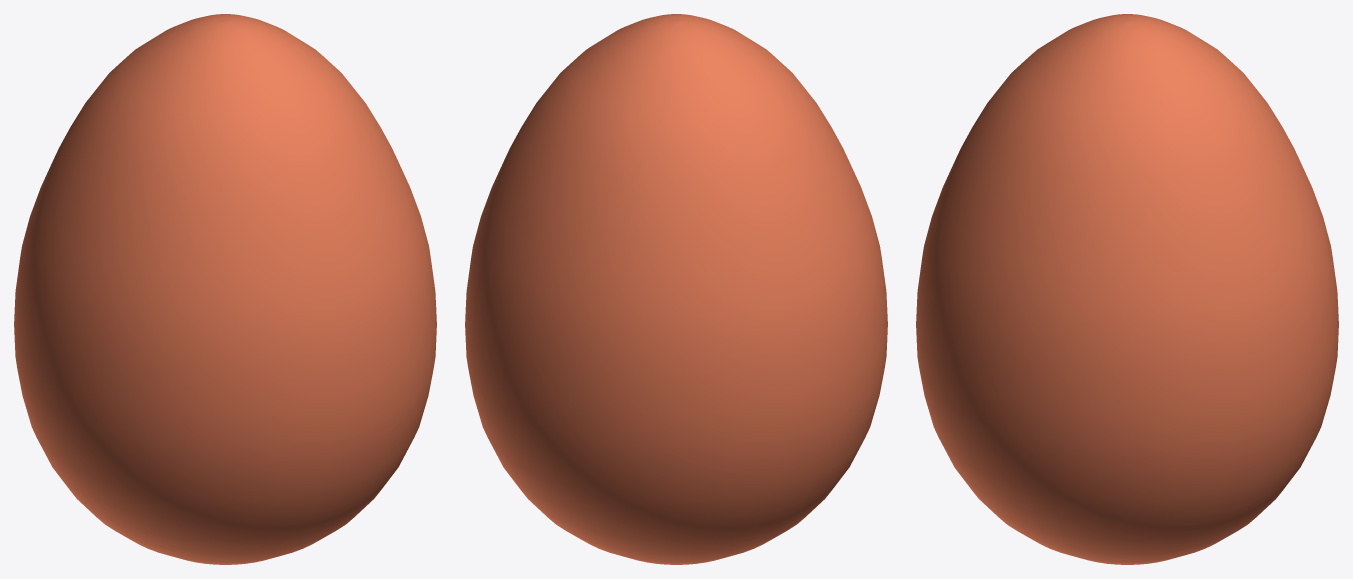
Rendered from EggBronze.fbx.
The picture shows the model from 3 angles, left to right: view 1: azimuth 30°, elevation 25°; view 2: azimuth 150°, elevation 25°; view 3: azimuth 270°, elevation 25°; orthographic projection.
Parts seen in each view (by area): view 1: EggBronze.003; view 2: EggBronze.003; view 3: EggBronze.003.
Boxes of the visible parts, bbox=[...] form: EggBronze.003: bbox=[14, 14, 436, 564]; EggBronze.003: bbox=[465, 14, 887, 564]; EggBronze.003: bbox=[916, 14, 1338, 564].
Size of the model in its own units: 61.19 by 83.14 by 61.2.
